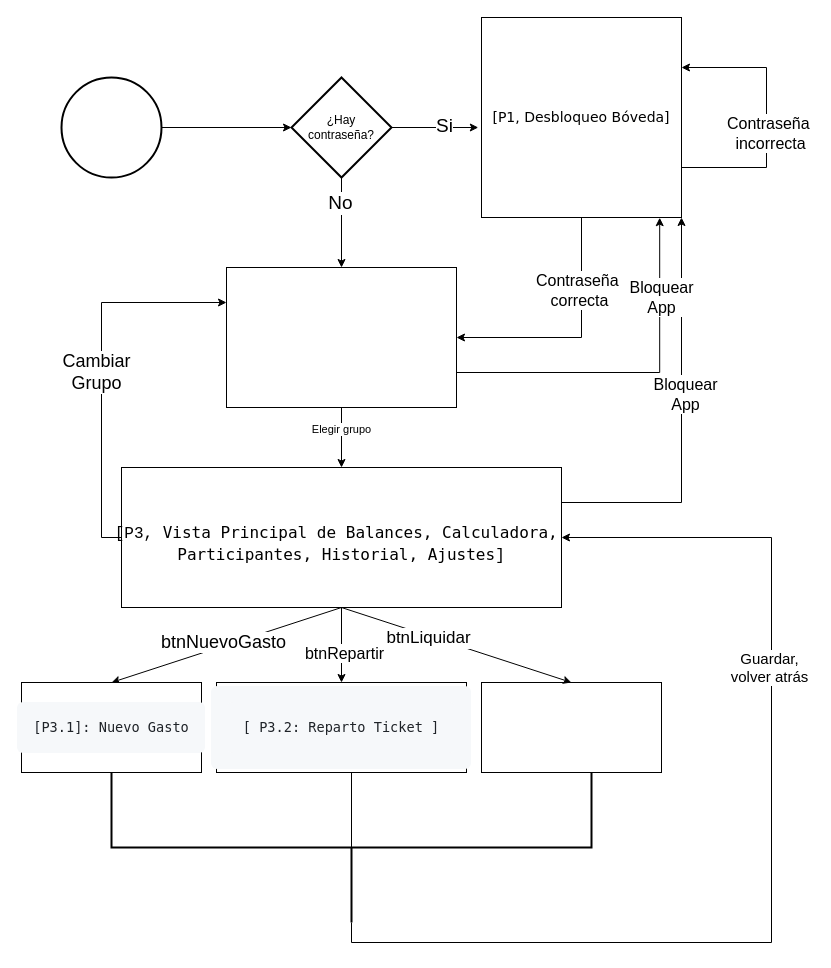
This 831x968 diagram has some shape labels left out. The shapes that lost their labels are listed below. From the top down, each one's centre as x and y in pixels, then its label:
At [111,127]: "Inicio".
At [341,337]: "[P2 Selección de Grupos]".
At [571,727]: "[P3.3]: Liquidar".
